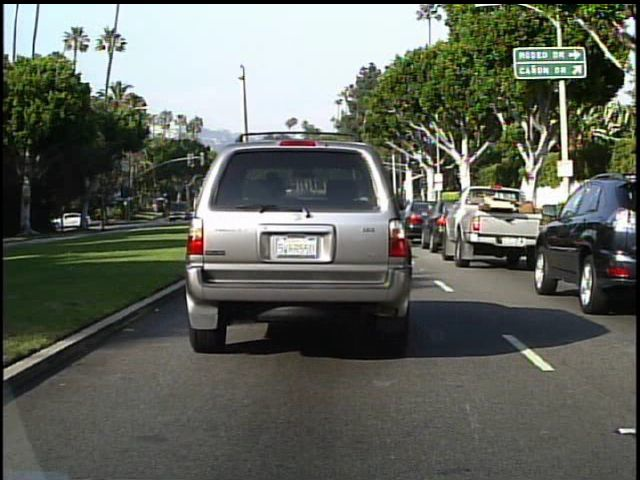person: (81, 207, 95, 229)
